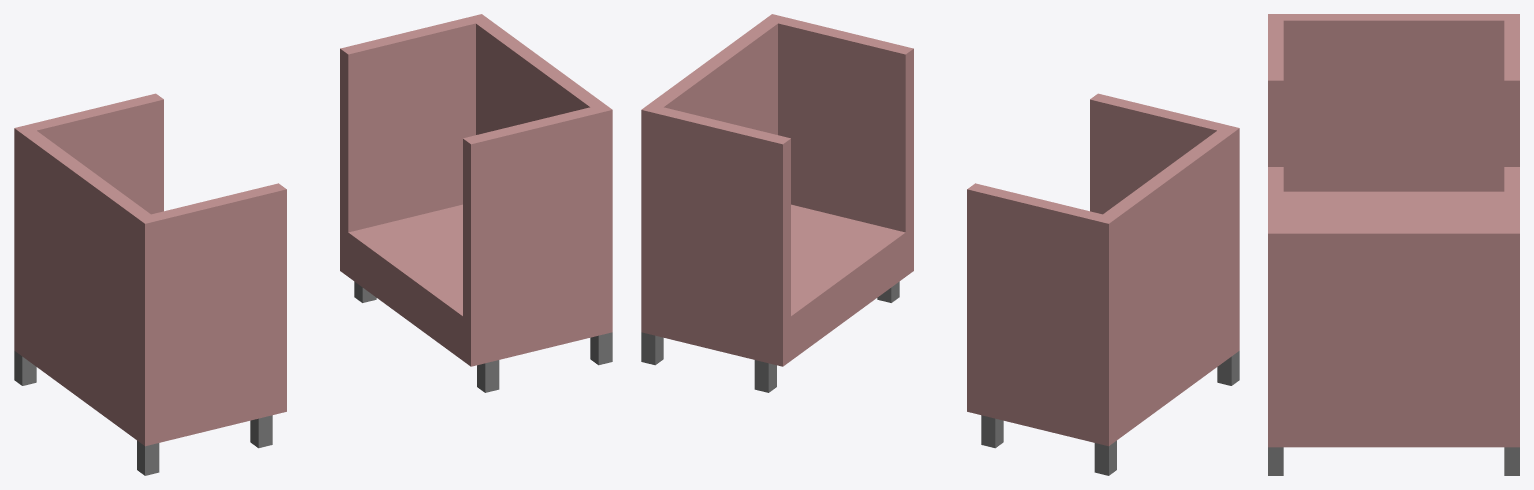
Rendered from 4er-tisch-verl-36-pink think tanks.obj.
The picture shows the model from 3 angles, left to right: view 1: azimuth 30°, elevation 25°; view 2: azimuth 150°, elevation 25°; view 3: azimuth 270°, elevation 25°; orthographic projection. The views are drawn at different scales.
Visible parts, largest first — view 1: pink think tanks; view 2: pink think tanks; view 3: pink think tanks.
Part boxes in pixels (<box>): pink think tanks: <box>14,14,612,475</box>; pink think tanks: <box>641,14,1239,475</box>; pink think tanks: <box>1268,14,1519,475</box>.
Size of the model in its own units: 3.3 by 1.7 by 1.6.
1 material, 1 textured.
